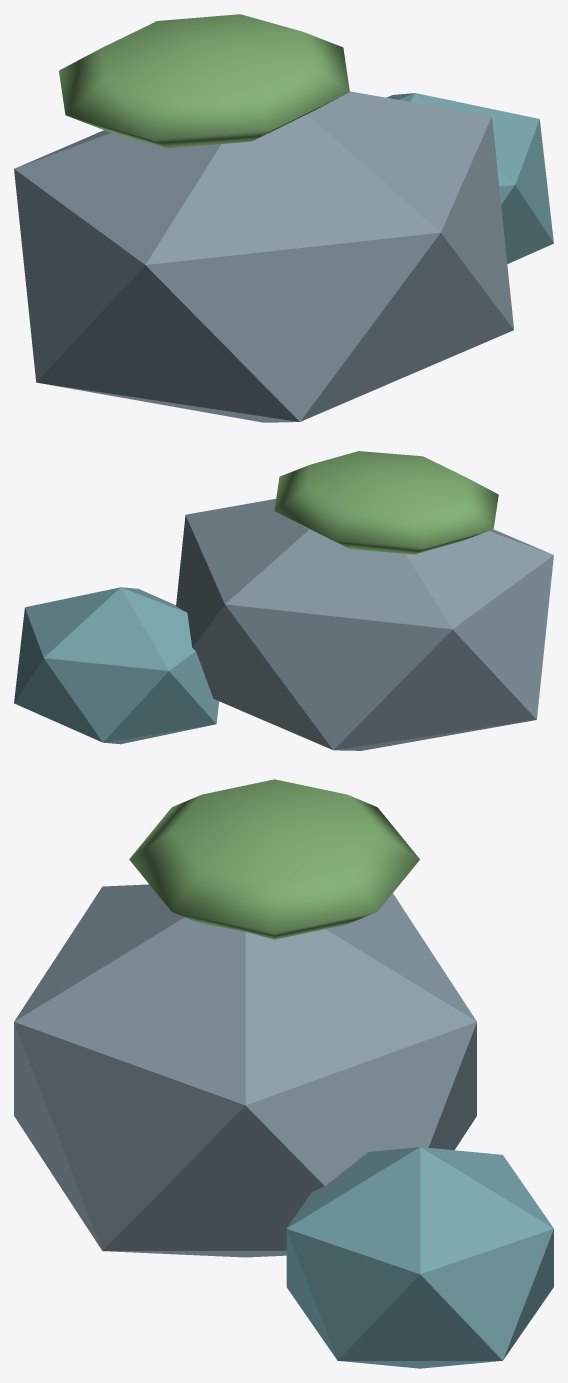
Rendered from DW_Rock_B.fbx.
The picture shows the model from 3 angles, top to bottom: view 1: azimuth 30°, elevation 25°; view 2: azimuth 150°, elevation 25°; view 3: azimuth 270°, elevation 25°; orthographic projection. The views are drawn at different scales.
Parts seen in each view (by area): view 1: DW_Rock_B; view 2: DW_Rock_B; view 3: DW_Rock_B.
Boxes of the visible parts, bbox=[...] form: DW_Rock_B: bbox=[14, 14, 553, 422]; DW_Rock_B: bbox=[14, 451, 553, 750]; DW_Rock_B: bbox=[14, 779, 553, 1368].
Size of the model in its own units: 0.5041 by 0.313 by 0.3709.
